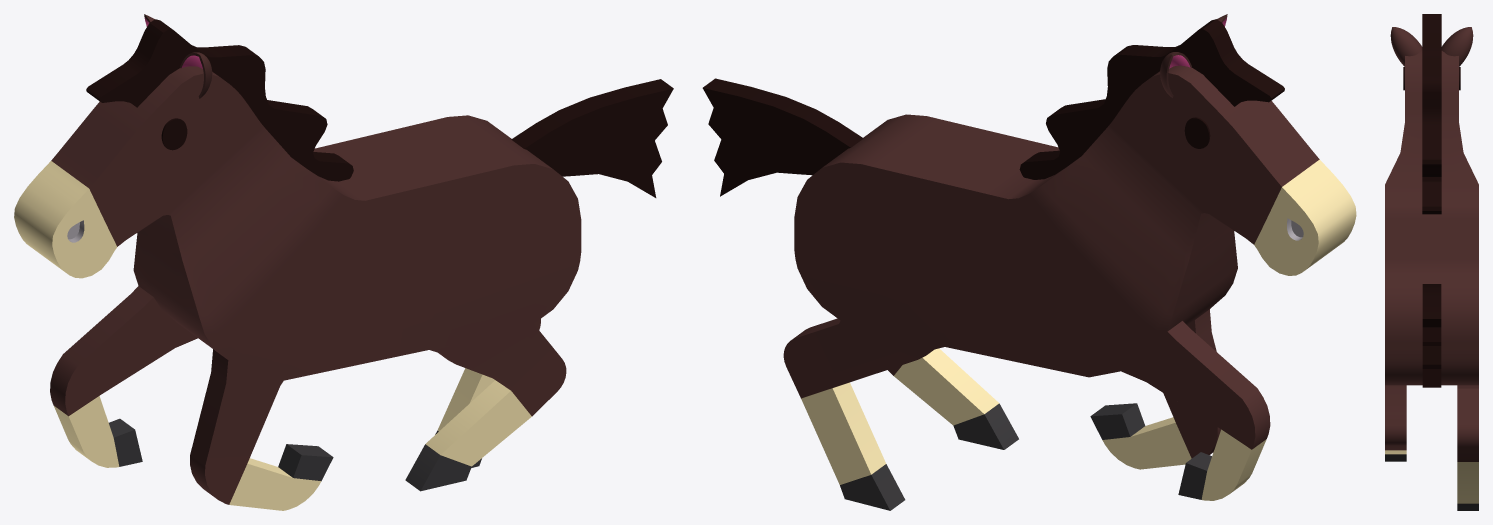
Rendered from Horse.gltf.
3 renders of one model, left to right at view 1: azimuth 30°, elevation 25°; view 2: azimuth 150°, elevation 25°; view 3: azimuth 270°, elevation 25°, orthographic. The views are drawn at different scales.
Visible parts, largest first — view 1: Plane.111, Cube.6211, Plane.112; view 2: Plane.111, Cube.6211, Plane.112; view 3: Plane.111, Cube.6211, Plane.112, Cube.6212.
Part boxes in pixels (x1,y1,x2,y2): Plane.111: (14, 66, 581, 510); Cube.6211: (86, 19, 353, 181); Plane.112: (511, 79, 673, 197); Plane.111: (783, 65, 1356, 510); Cube.6211: (1019, 19, 1284, 179); Plane.112: (702, 78, 863, 196); Plane.111: (1385, 51, 1478, 510); Cube.6211: (1422, 14, 1441, 214); Plane.112: (1422, 284, 1441, 387); Cube.6212: (1390, 27, 1473, 66).
Size of the model in its own units: 2.29 by 1.85 by 0.4134.
6 materials, 1 textured.
